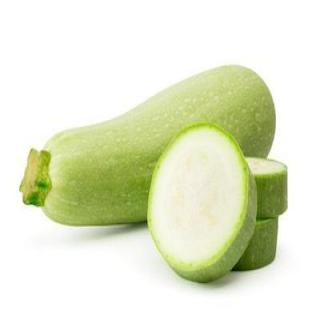Zucchini: (21, 66, 275, 225), (148, 125, 256, 281), (247, 158, 287, 218), (234, 218, 278, 271)
